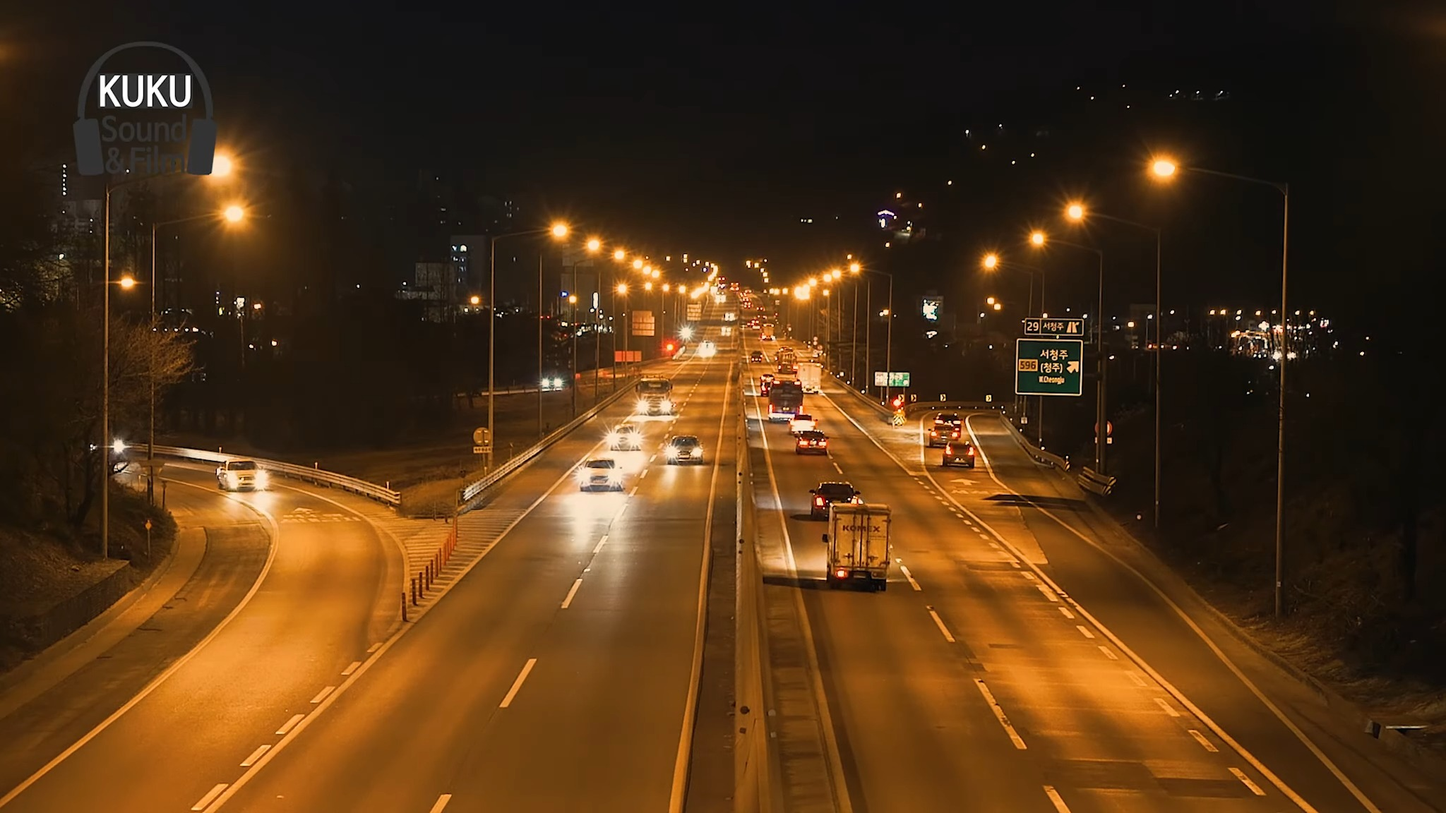truck: (821, 498, 897, 597)
